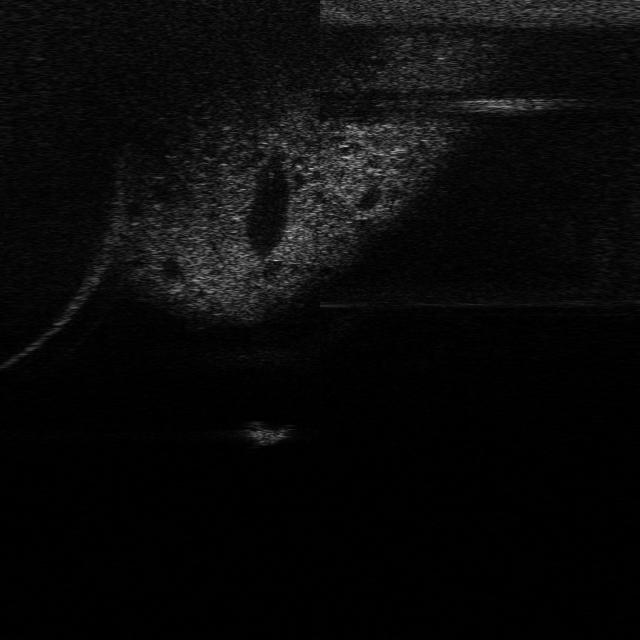cube: (234, 416, 300, 445)
